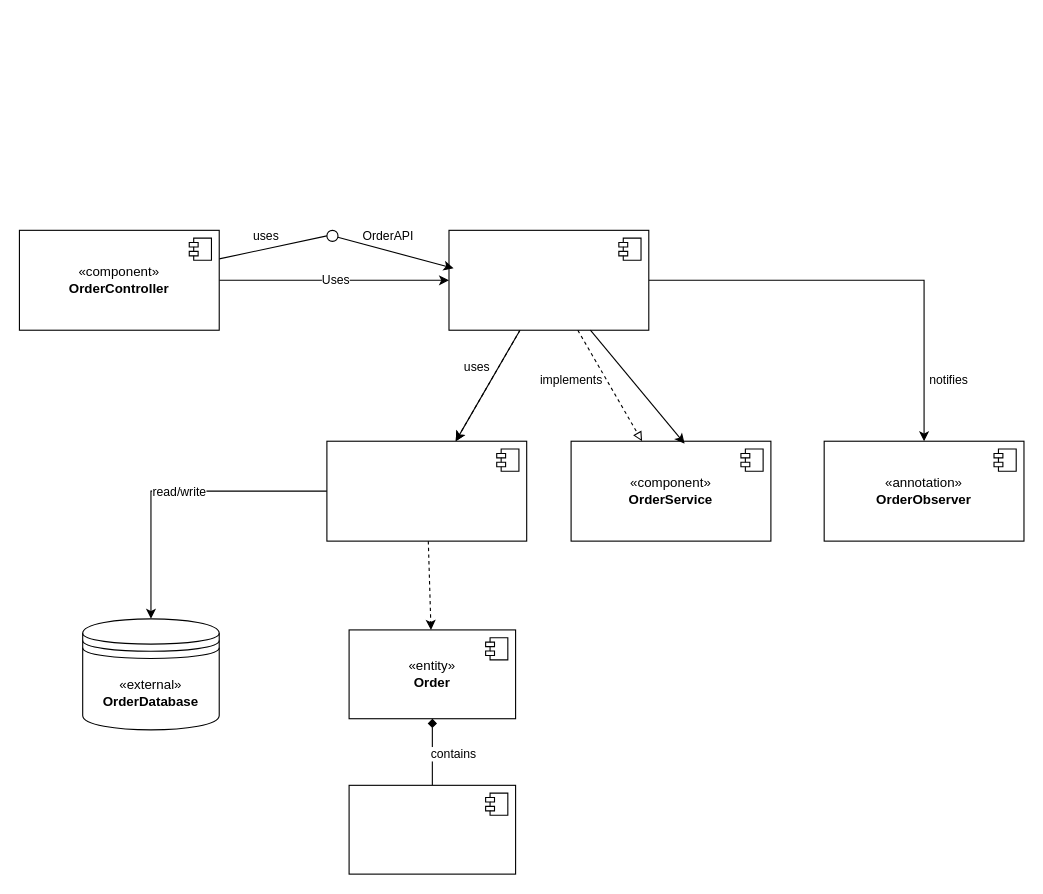
Some shapes in this 1043 by 894 pixel diagram are drawn without their labels. Each missing label, with the box of its shape:
«component» OrderRepository: (326, 440, 527, 541)
«component» OrderServiceImpl: (448, 229, 649, 330)
«entity» OrderItem: (348, 784, 516, 874)
